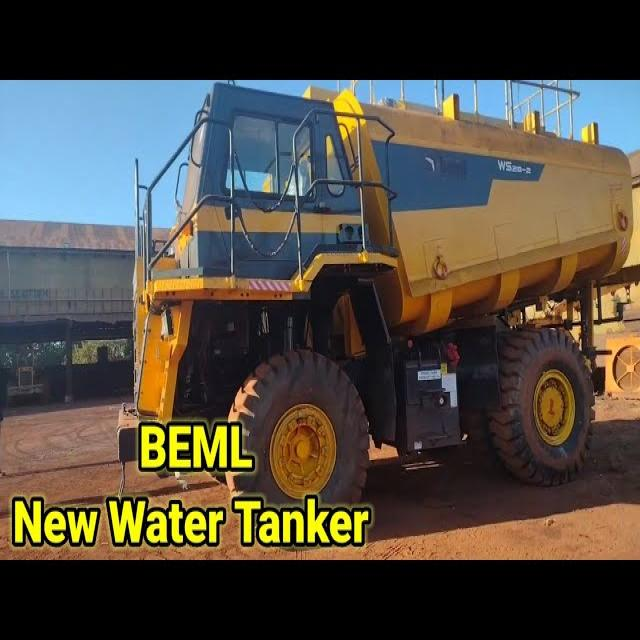dump_truck: (100, 83, 611, 502)
